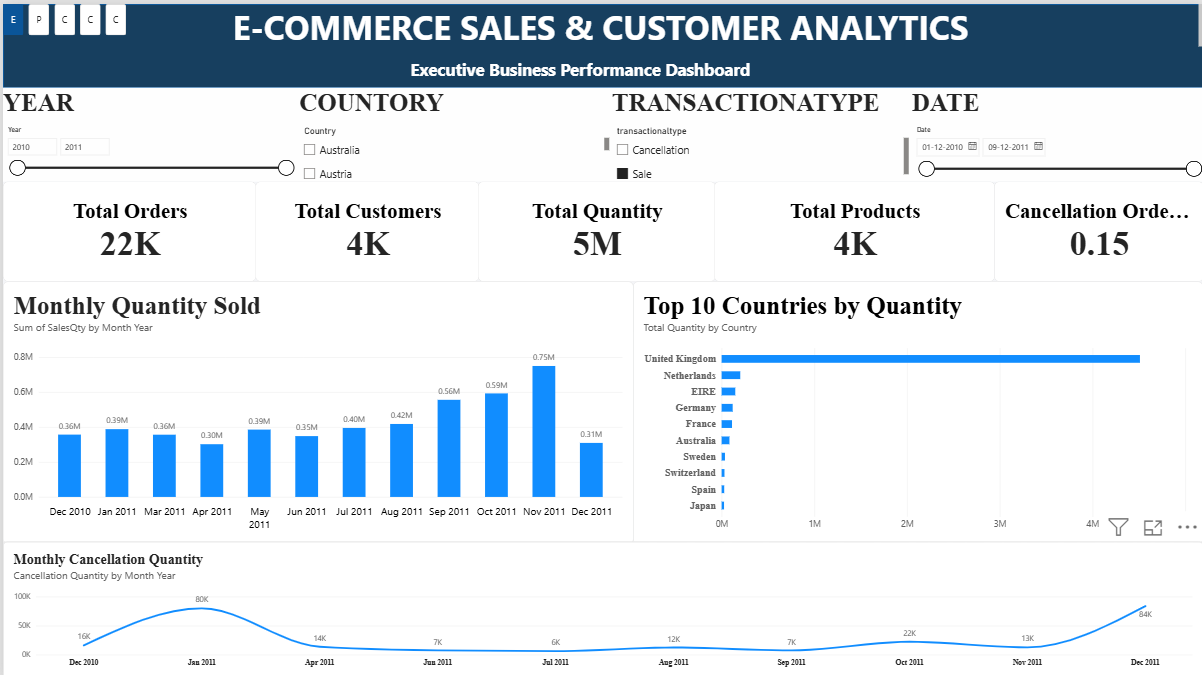

The page's visual inventory and layout, read from the dashboard file:
{"tool":"powerbi","page":{"name":"Executive Overview","canvas":[1920,1080],"ordinal":0},"visuals":[{"type":"slicer","title":"YEAR","fields":{"Values":["DateTable.Year"]},"box":[0,133.8,469.4,150.1],"z":0,"group":"g1"},{"type":"cardVisual","fields":{"Data":["DateTable.Total Orders"]},"box":[0,284,405.7,160.5],"z":0,"group":"g2"},{"type":"textbox","box":[0,609.3,1477.9,72],"z":0},{"type":"slicer","title":"COUNTORY","fields":{"Values":["EcommerceData.Country"]},"box":[473.5,134,496.2,150.1],"z":1000,"group":"g1"},{"type":"cardVisual","fields":{"Data":["DateTable.Total Customers"]},"box":[403.6,284,358.1,160.5],"z":1000,"group":"g2"},{"type":"textbox","box":[0,785,1478,150],"z":1000},{"type":"shape","box":[0,0,1920.4,133.8],"z":2000},{"type":"slicer","title":"TRANSACTIONATYPE","fields":{"Values":["EcommerceData.transactionaltype"]},"box":[973.8,134,475.6,150.1],"z":2000,"group":"g1"},{"type":"cardVisual","fields":{"Data":["DateTable.Total Quantity"]},"box":[759.6,284,380.9,160.5],"z":2000,"group":"g2"},{"type":"textbox","box":[0,0,1920.4,70],"z":3000},{"type":"slicer","title":"DATE","fields":{"Values":["EcommerceData.Date"]},"box":[1453.1,134,467.3,150.1],"z":3000,"group":"g1"},{"type":"cardVisual","fields":{"Data":["DateTable.Total Products"]},"box":[1138.4,284,449.2,160.5],"z":3000,"group":"g2"},{"type":"textbox","box":[652.5,86.4,625.7,65.9],"z":4000},{"type":"cardVisual","fields":{"Data":["DateTable.Cancellation Order Rate"]},"box":[1585.1,284,335.3,160.5],"z":4000,"group":"g2"},{"type":"group","id":"g1","title":"Group 1","box":[0,133.8,1920.4,150.3],"z":5000},{"type":"pageNavigator","box":[0,0,200,50],"z":6000},{"type":"group","id":"g2","title":"Group 1","box":[0,284,1920.4,160.5],"z":7000},{"type":"clusteredBarChart","title":"Top 10 Countries by Quantity","fields":{"Category":["EcommerceData.Country"],"Y":["DateTable.Total Quantity"]},"box":[1008.6,444.6,911.8,419.9],"z":8000},{"type":"columnChart","title":"Monthly Quantity Sold","fields":{"Category":["DateTable.Month Year"],"Y":["Sum(EcommerceData.SalesQty)"]},"box":[0,444.6,1008.6,419.9],"z":9000},{"type":"lineChart","title":"Monthly Cancellation Quantity","fields":{"Category":["DateTable.Month Year"],"Y":["DateTable.Cancellation Quantity"]},"box":[0,860.4,1920.4,220.2],"z":10000}]}

Visuals, with their boxes in screenshot pixels (x1, y1, x2, y2), scaled from the page's 1920x1080 canvas onto the 1202x675 screenshot:
"YEAR" slicer: l=0, t=84, r=294, b=177
cardVisual - DateTable.Total Orders: l=0, t=178, r=254, b=278
textbox: l=0, t=381, r=925, b=426
"COUNTORY" slicer: l=296, t=84, r=607, b=178
cardVisual - DateTable.Total Customers: l=253, t=178, r=477, b=278
textbox: l=0, t=491, r=925, b=584
shape: l=0, t=0, r=1201, b=84
"TRANSACTIONATYPE" slicer: l=610, t=84, r=907, b=178
cardVisual - DateTable.Total Quantity: l=476, t=178, r=714, b=278
textbox: l=0, t=0, r=1201, b=44
"DATE" slicer: l=910, t=84, r=1201, b=178
cardVisual - DateTable.Total Products: l=713, t=178, r=994, b=278
textbox: l=408, t=54, r=800, b=95
cardVisual - DateTable.Cancellation Order Rate: l=992, t=178, r=1201, b=278
"Group 1" group: l=0, t=84, r=1201, b=178
pageNavigator: l=0, t=0, r=125, b=31
"Group 1" group: l=0, t=178, r=1201, b=278
"Top 10 Countries by Quantity" clusteredBarChart: l=631, t=278, r=1201, b=540
"Monthly Quantity Sold" columnChart: l=0, t=278, r=631, b=540
"Monthly Cancellation Quantity" lineChart: l=0, t=538, r=1201, b=674
